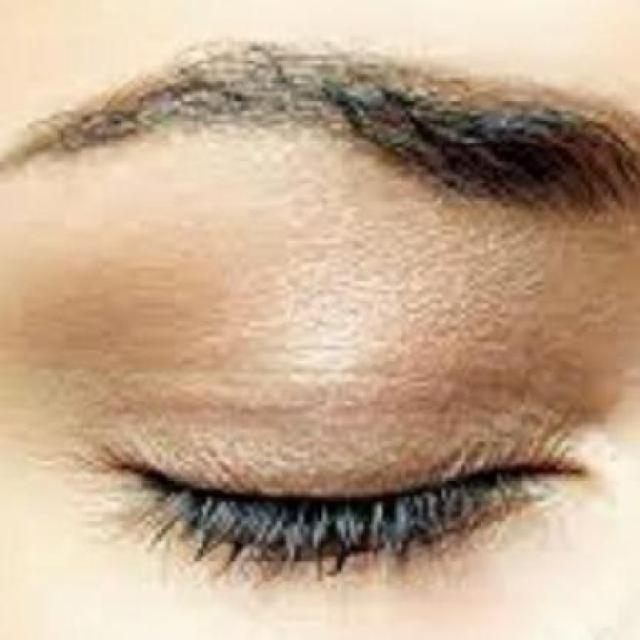drowsy: (93, 340, 570, 638)
